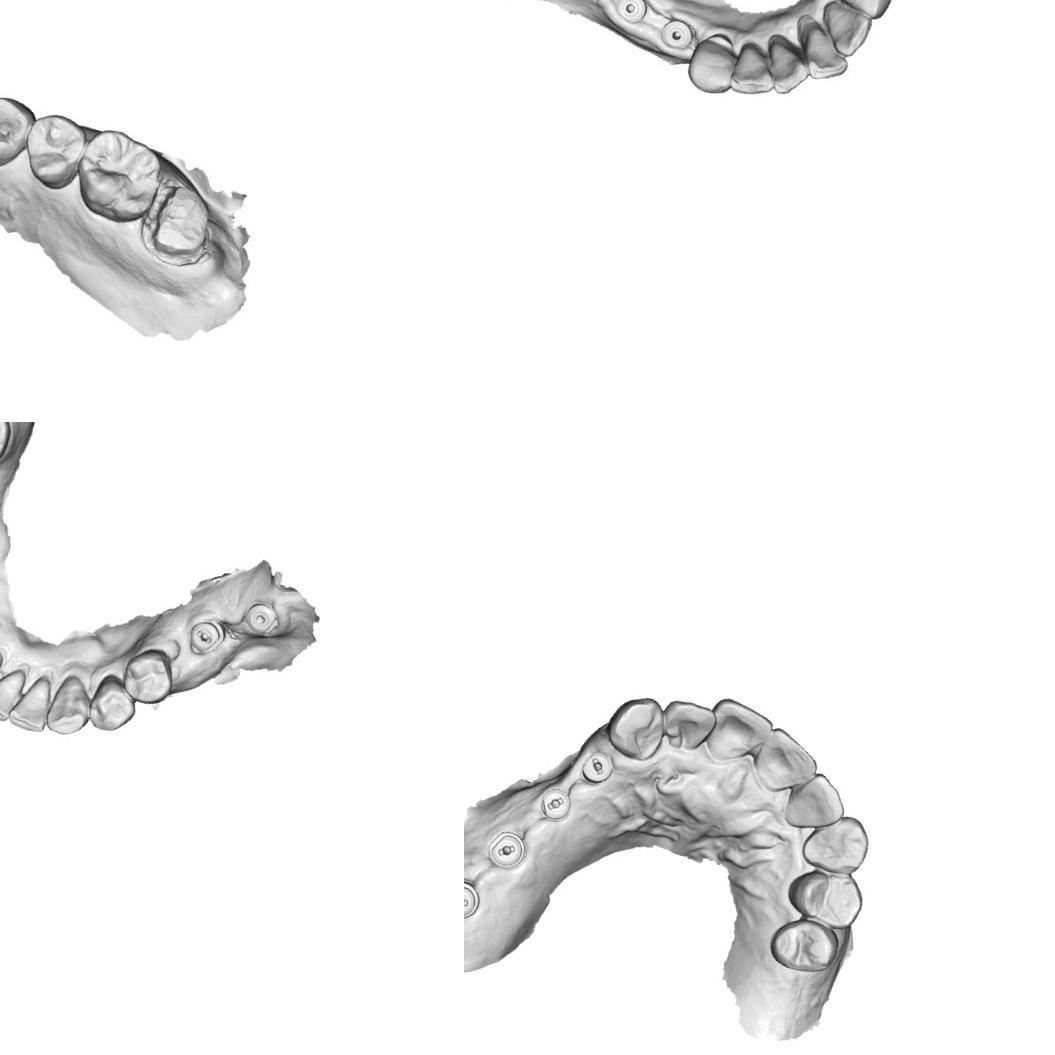canine: (795, 804, 875, 881), (600, 687, 672, 765), (682, 30, 742, 100), (42, 670, 97, 740), (827, 0, 899, 20)
crown: (138, 176, 219, 270)
implant: (238, 598, 283, 642), (656, 14, 699, 55), (610, 0, 651, 27)
implant_minus: (482, 826, 530, 874), (182, 615, 230, 659), (532, 781, 576, 827), (576, 745, 617, 788), (464, 874, 485, 924)
incisor: (698, 692, 778, 773), (748, 722, 825, 803), (780, 764, 852, 837), (793, 19, 857, 86), (655, 695, 720, 756), (816, 1, 876, 60), (4, 669, 57, 735), (726, 41, 782, 101), (762, 39, 814, 100), (0, 658, 28, 724)
molar: (65, 121, 169, 230)
premolar: (14, 108, 92, 195), (780, 858, 869, 934), (763, 911, 843, 980), (114, 642, 179, 710), (84, 670, 143, 738), (0, 89, 40, 174)
